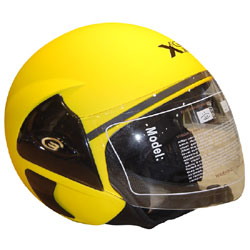helmet: (12, 30, 239, 222)
